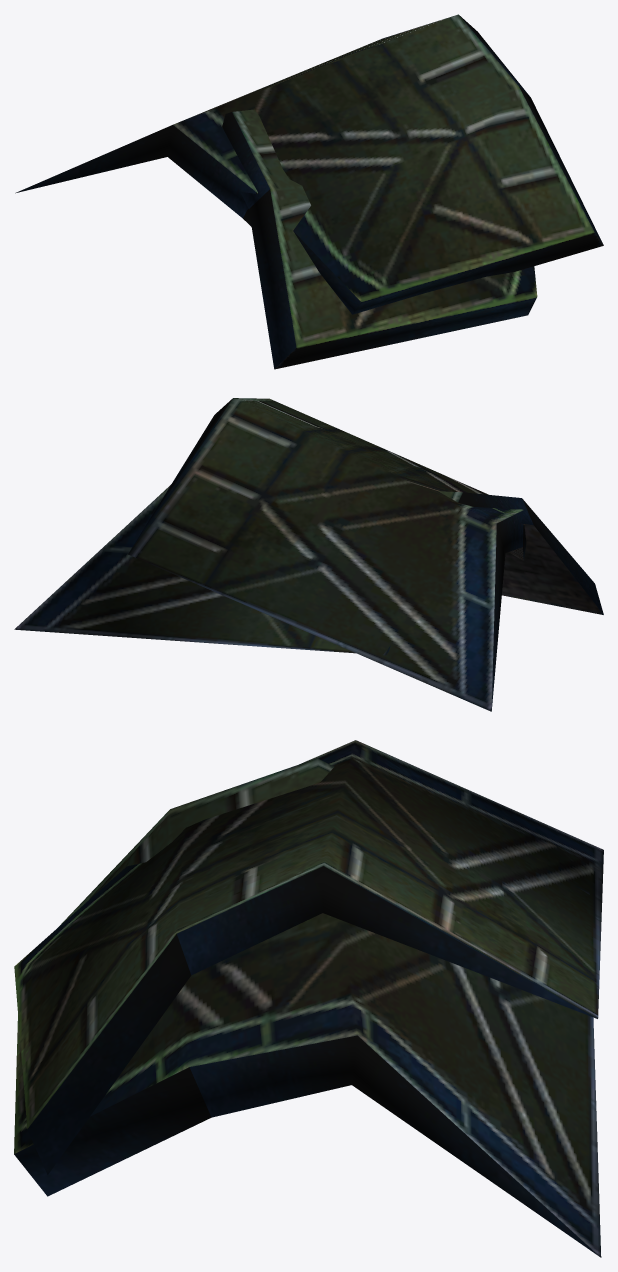
The model's file is ShoulderPads6__VTX.glb.
3 views of the same model, one above another, from view 1: azimuth 30°, elevation 25°; view 2: azimuth 150°, elevation 25°; view 3: azimuth 270°, elevation 25° (orthographic). The views are drawn at different scales.
Parts seen in each view (by area): view 1: ShoulderPads6; view 2: ShoulderPads6; view 3: ShoulderPads6.
Part boxes in pixels (x1,y1,x2,y2): ShoulderPads6: [15, 14, 603, 369]; ShoulderPads6: [14, 398, 603, 711]; ShoulderPads6: [14, 740, 603, 1257].
Bounding box in the file's own units: 13.97 × 6.37 × 9.83.
1 material, 1 textured.
